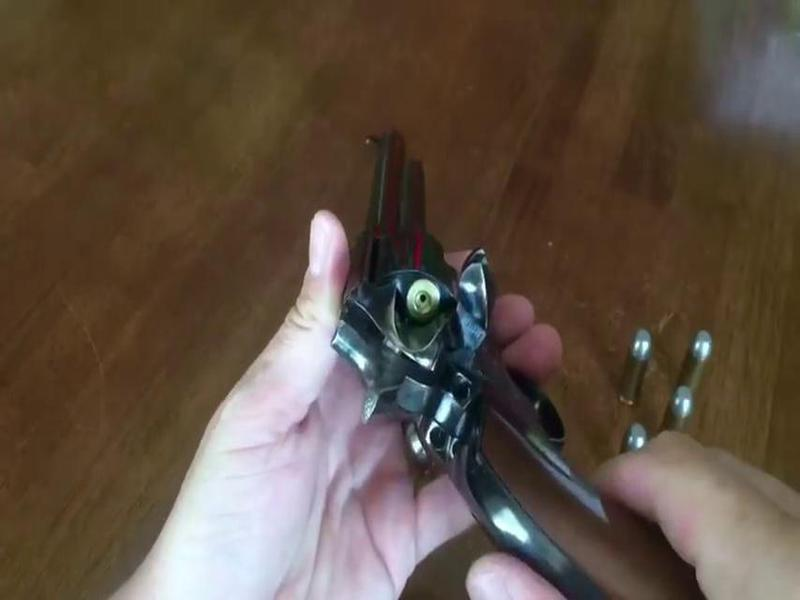Revolver: (333, 113, 602, 598)
